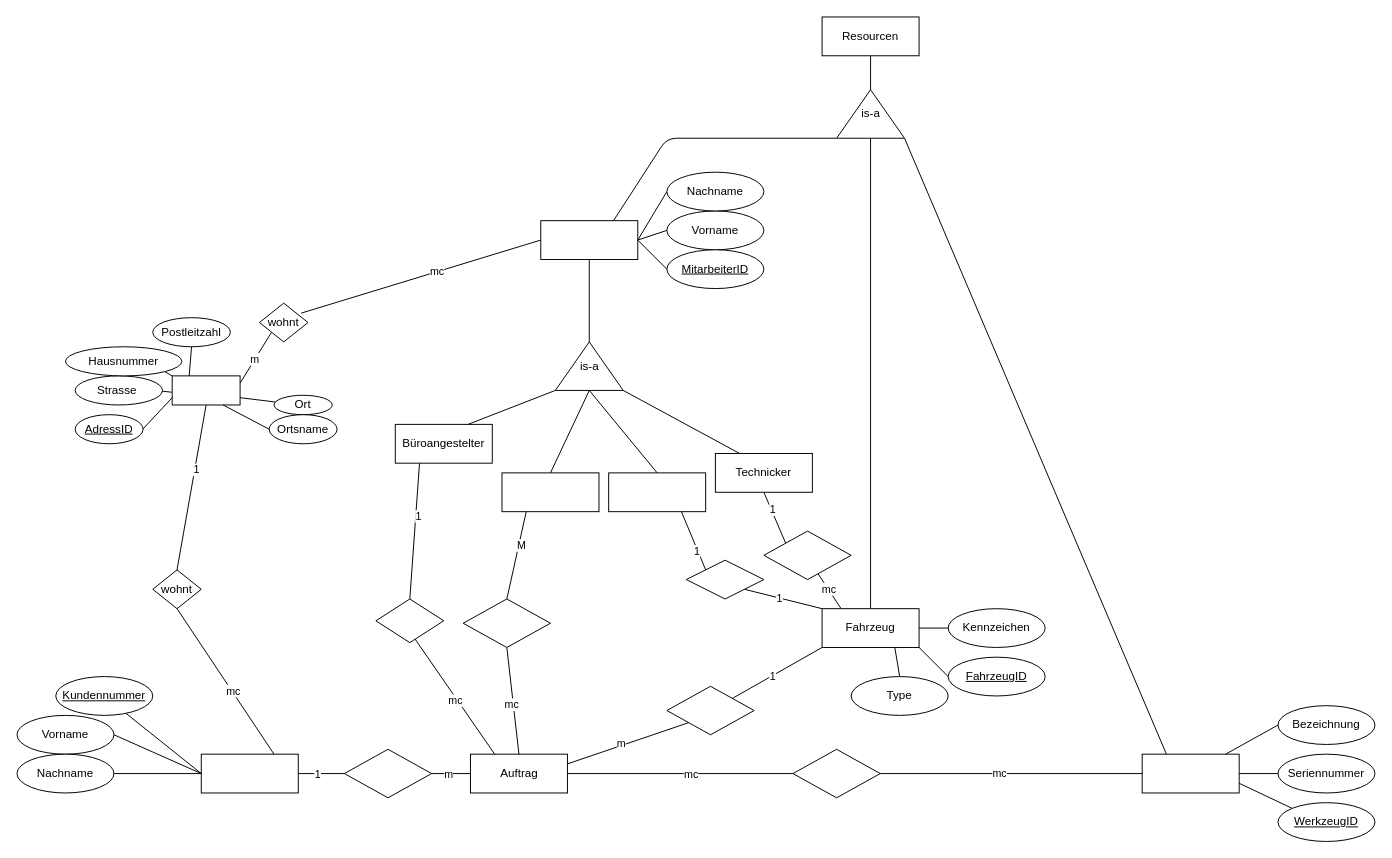
Some shapes in this 1392 by 858 pixel diagram are drawn without their labels. Here are the shapes that lost their labels. From the top down, the centre of each, then its label:
[589,239]: Mitarbeiter
[205,390]: Adresse
[550,492]: Arbeiter
[657,492]: Fahrer
[807,555]: betreut
[724,579]: fährt
[409,620]: betreuet
[506,622]: führt aus
[710,710]: benötigt
[249,773]: Kunde
[387,773]: gibt auf
[836,773]: braucht
[1190,773]: Werkzeug
